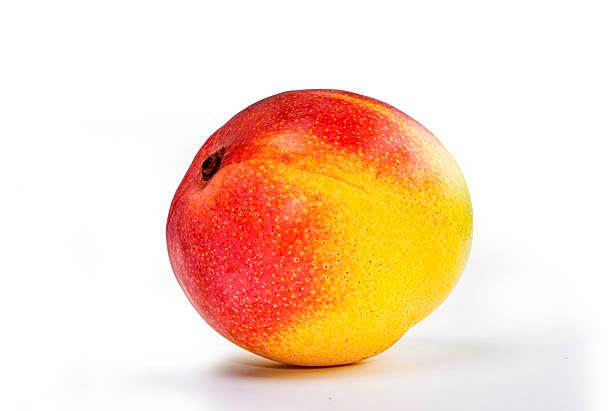mango: (150, 69, 488, 373)
